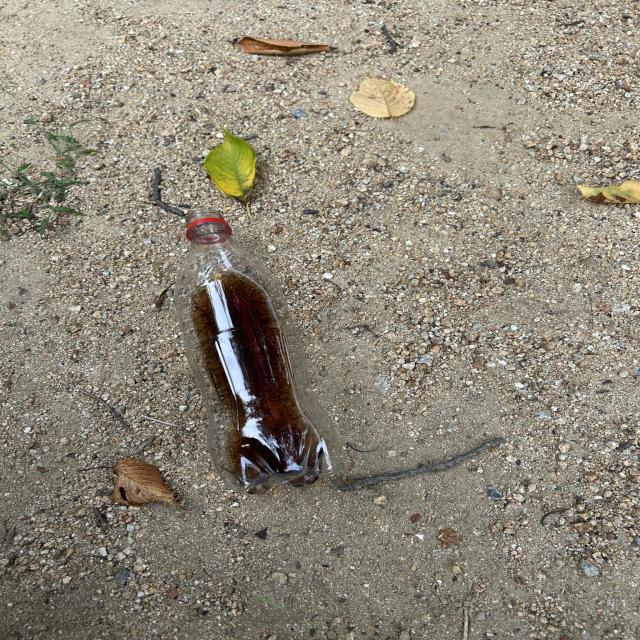low: (174, 208, 339, 493)
